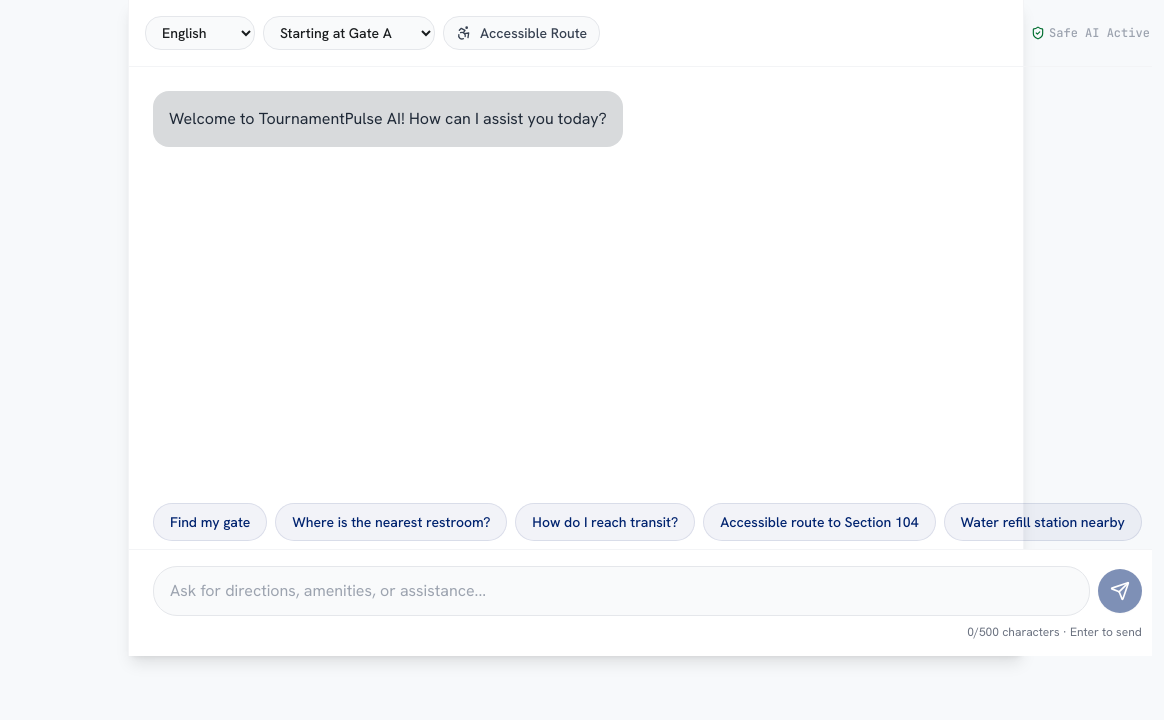
Test: FanAssistant - Interactions › should send message on button click
Type "Find gate A" into the field named "type your message".
click(621, 591); type("Find gate A")  # box [153, 566, 1090, 616]
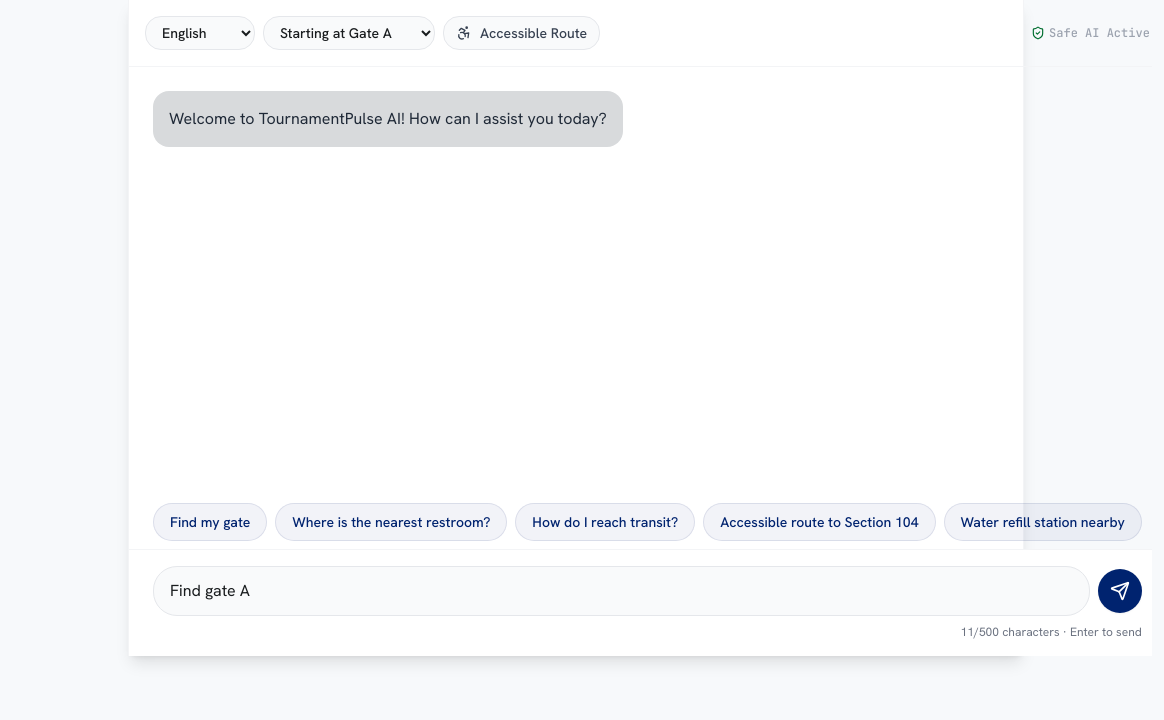
Click the button named "Send message".
click(1120, 591)  # box [1098, 569, 1142, 613]
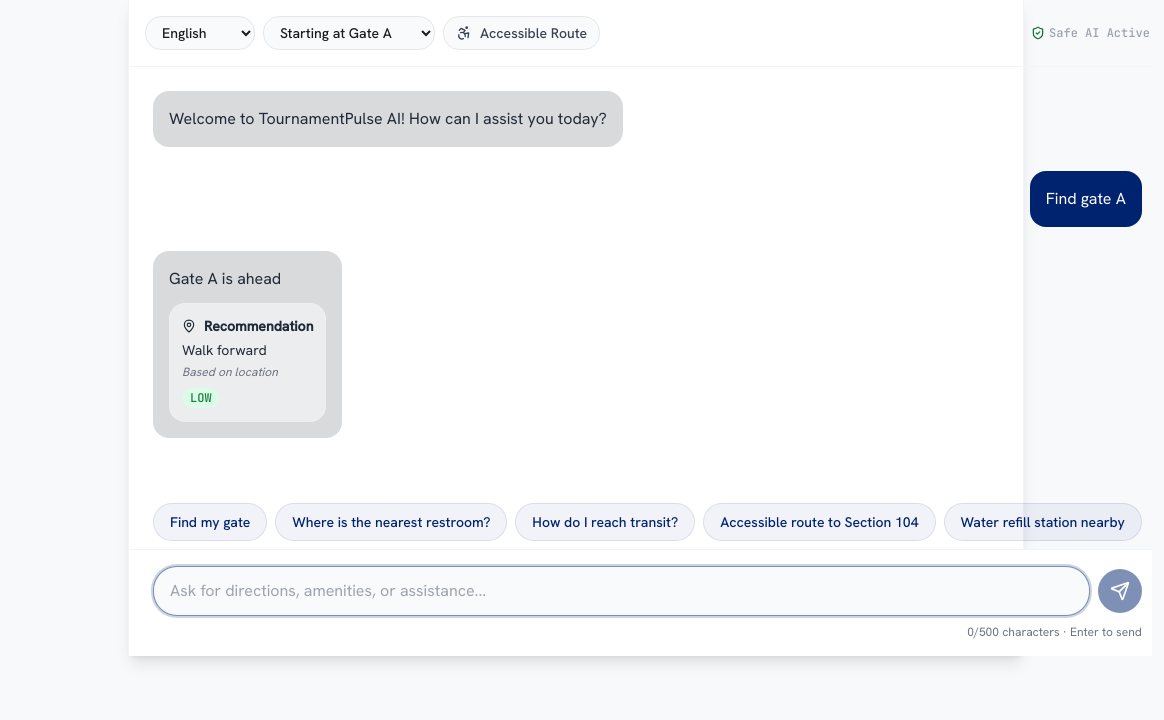
Expected: the text "Find gate A" is shown, [1046, 187, 1126, 211]
